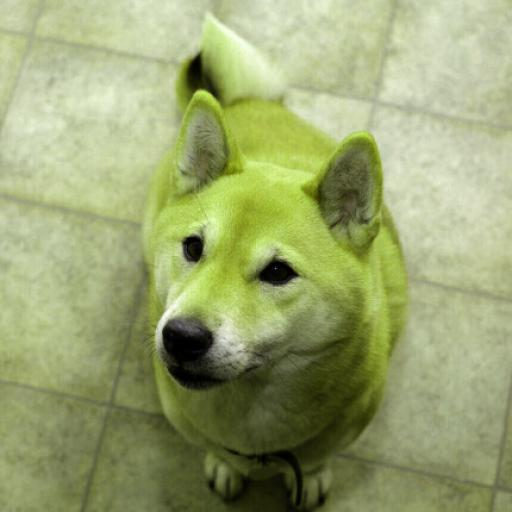dog_face: (142, 102, 376, 384)
